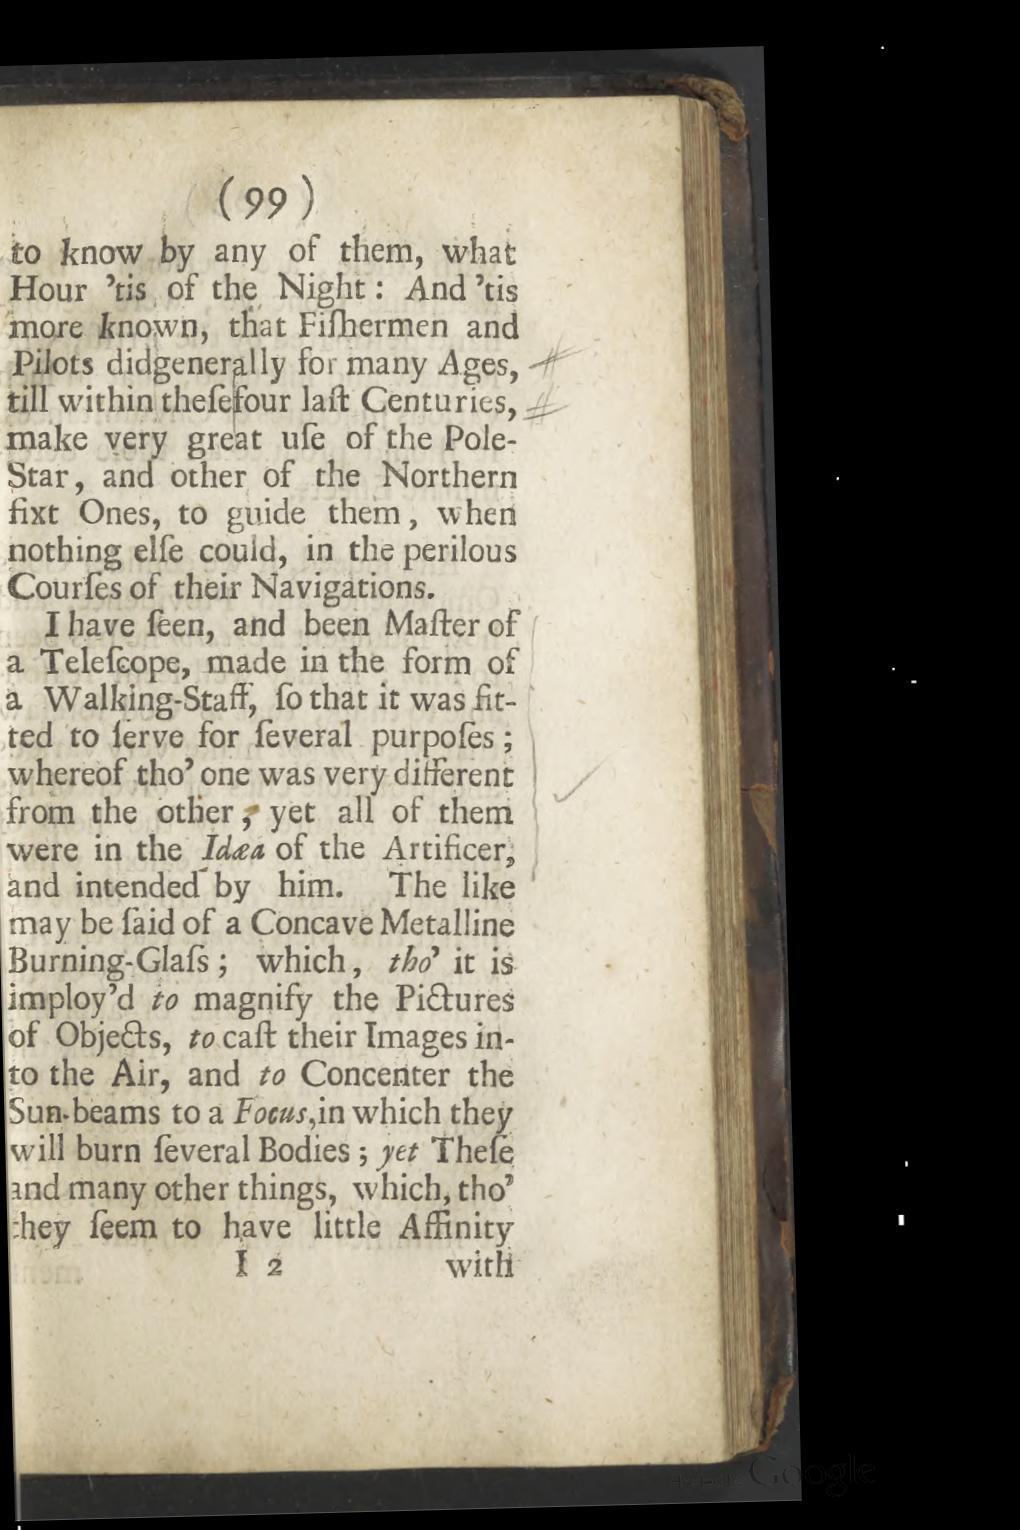bottom_p: (5, 238, 528, 610)
catchword: (442, 1242, 520, 1286)
page_num: (242, 176, 290, 224)
signature: (235, 1247, 288, 1282)
top_p: (6, 604, 523, 1244)
